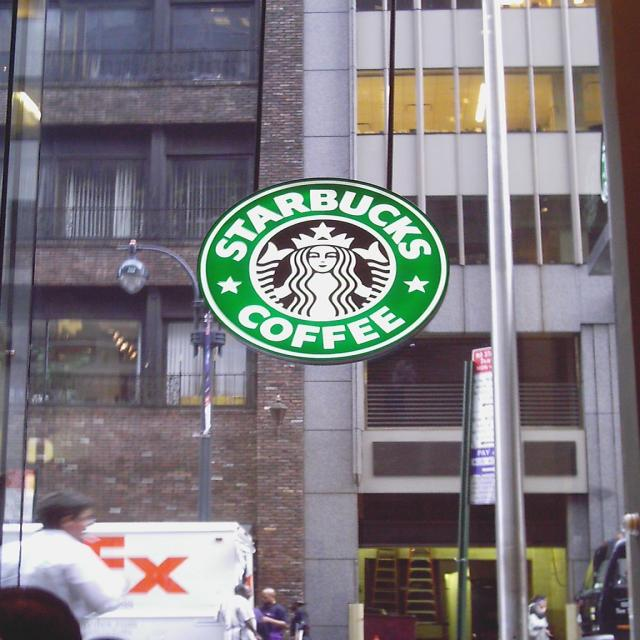starbucks: (198, 177, 448, 359)
